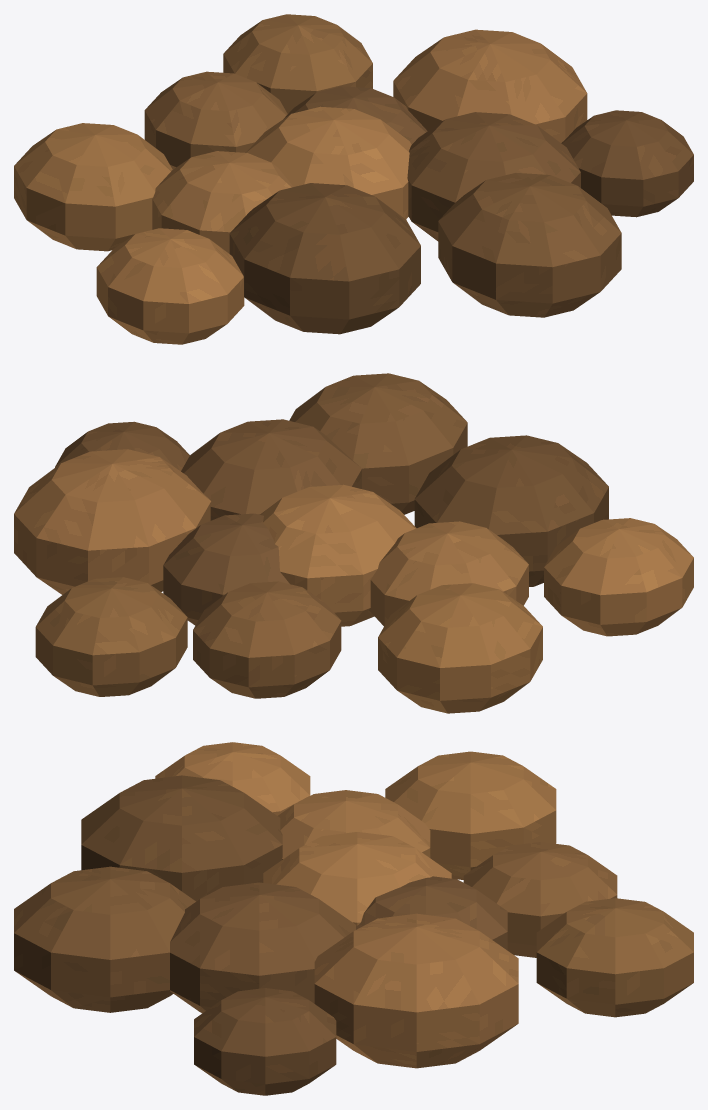
Rendered from pecan_shelled.glb.
The picture shows the model from 3 angles, top to bottom: view 1: azimuth 30°, elevation 25°; view 2: azimuth 150°, elevation 25°; view 3: azimuth 270°, elevation 25°; orthographic projection. The views are drawn at different scales.
Parts seen in each view (by area): view 1: block_grain 5, block_grain 8, block_grain 7, block_grain 6, block_grain 10, block_grain 3, block_grain 0, block_grain 11, block_grain 9, block_grain 4, block_grain 2, block_grain 1; view 2: block_grain 6, block_grain 7, block_grain 5, block_grain 9, block_grain 8, block_grain 10, block_grain 4, block_grain 0, block_grain 3, block_grain 2, block_grain 1, block_grain 11; view 3: block_grain 6, block_grain 8, block_grain 5, block_grain 3, block_grain 9, block_grain 7, block_grain 11, block_grain 4, block_grain 0, block_grain 2, block_grain 10, block_grain 1.
Boxes of the visible parts, left/top/right/bottom form: block_grain 5: left=229, top=183, right=420, bottom=334; block_grain 8: left=438, top=173, right=621, bottom=317; block_grain 7: left=14, top=123, right=172, bottom=251; block_grain 6: left=393, top=29, right=587, bottom=142; block_grain 10: left=96, top=228, right=244, bottom=344; block_grain 3: left=407, top=112, right=580, bottom=241; block_grain 0: left=246, top=106, right=411, bottom=219; block_grain 11: left=561, top=110, right=693, bottom=217; block_grain 9: left=223, top=14, right=372, bottom=113; block_grain 4: left=144, top=71, right=287, bottom=169; block_grain 2: left=152, top=151, right=293, bottom=253; block_grain 1: left=284, top=86, right=427, bottom=144; block_grain 6: left=14, top=449, right=211, bottom=594; block_grain 7: left=378, top=583, right=542, bottom=713; block_grain 5: left=414, top=435, right=608, bottom=586; block_grain 9: left=35, top=577, right=187, bottom=696; block_grain 8: left=289, top=373, right=467, bottom=514; block_grain 10: left=544, top=518, right=693, bottom=636; block_grain 4: left=193, top=581, right=341, bottom=698; block_grain 0: left=260, top=484, right=416, bottom=626; block_grain 3: left=181, top=419, right=361, bottom=520; block_grain 2: left=369, top=521, right=528, bottom=626; block_grain 1: left=163, top=513, right=289, bottom=625; block_grain 11: left=55, top=421, right=189, bottom=471; block_grain 6: left=314, top=913, right=518, bottom=1068; block_grain 8: left=14, top=866, right=195, bottom=1012; block_grain 5: left=81, top=775, right=282, bottom=901; block_grain 3: left=170, top=882, right=355, bottom=1013; block_grain 9: left=536, top=898, right=693, bottom=1017; block_grain 7: left=385, top=751, right=556, bottom=879; block_grain 11: left=194, top=988, right=336, bottom=1095; block_grain 4: left=463, top=842, right=617, bottom=957; block_grain 0: left=263, top=832, right=451, bottom=926; block_grain 2: left=278, top=790, right=430, bottom=859; block_grain 10: left=155, top=742, right=310, bottom=815; block_grain 1: left=356, top=876, right=507, bottom=950.
Bounding box in the file's own units: 0.0716 × 0.0144 × 0.0693.
1 material, 1 textured.
